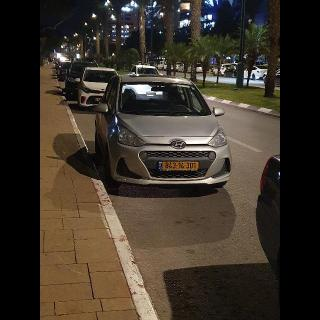LicensePlate: (164, 162, 199, 170)
